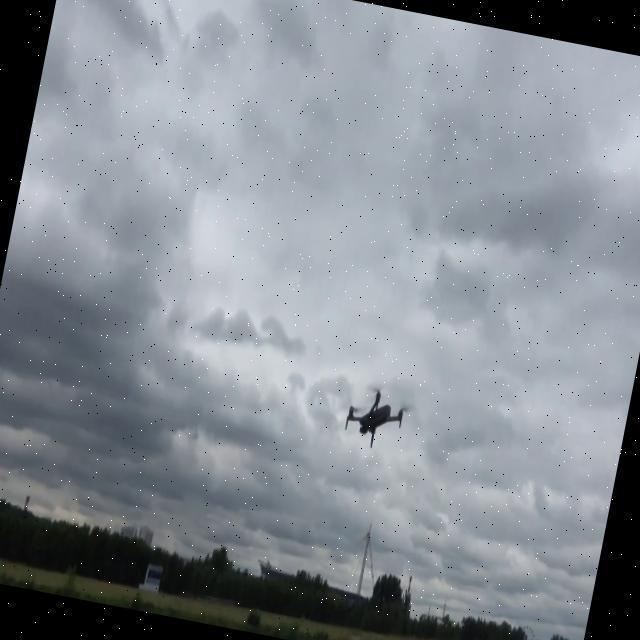Drons: (335, 381, 413, 456)
